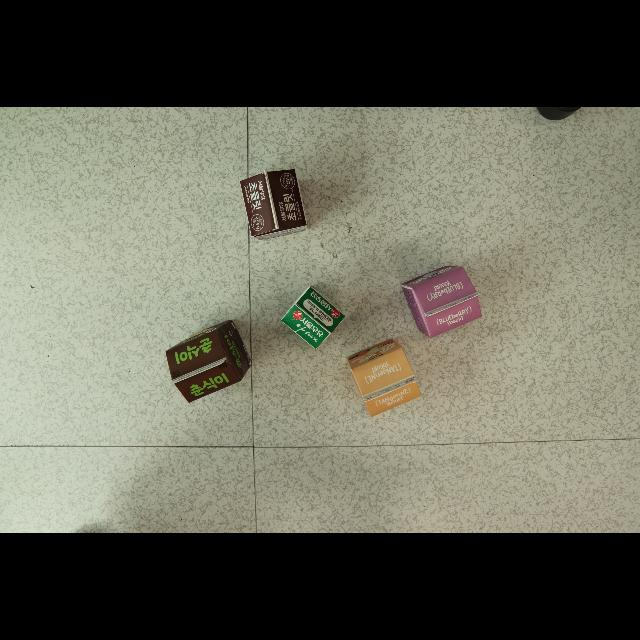milk: (165, 321, 250, 403), (402, 266, 483, 338), (347, 340, 422, 417), (241, 169, 307, 240), (281, 287, 345, 350)
